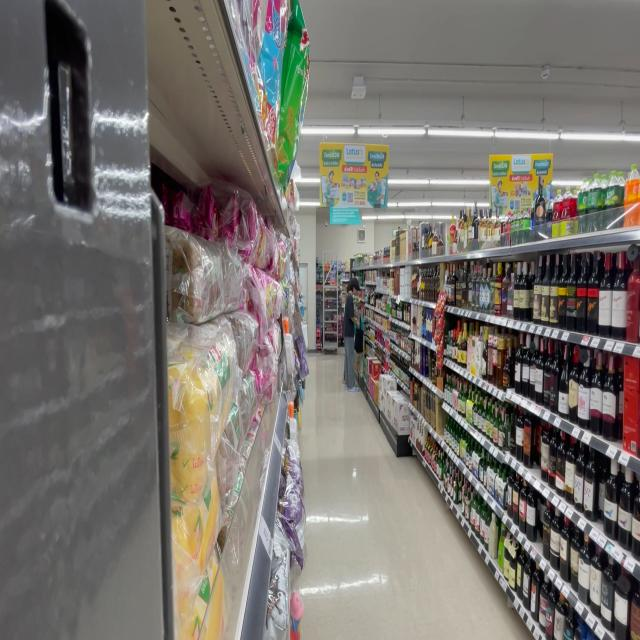shoplifting: (342, 278, 362, 395)
